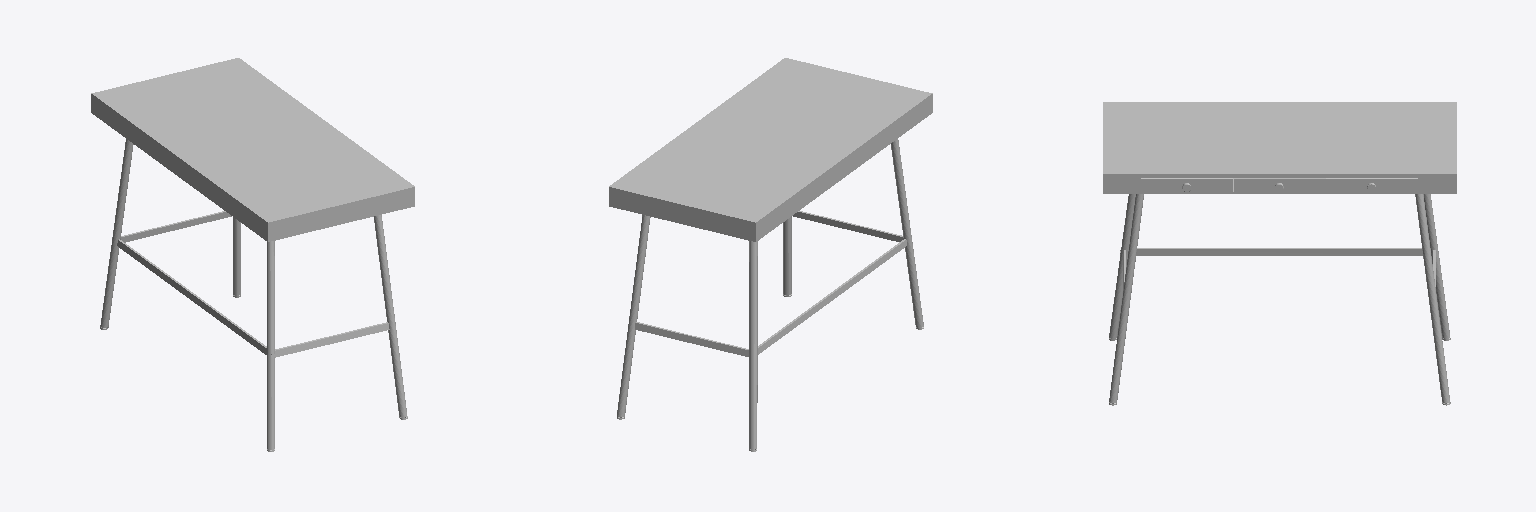
File: desk.obj
3 views of the same model, side by side, from view 1: azimuth 30°, elevation 25°; view 2: azimuth 150°, elevation 25°; view 3: azimuth 270°, elevation 25° (orthographic).
Visible parts, largest first — view 1: Cube, Cylinder.003; view 2: Cube, Cylinder.003; view 3: Cube, Cylinder.003, Cube.013, Cube.017, Cube.001.
Boxes of the visible parts, box(x1,y1,x2,y2) form: Cube: box(91, 58, 414, 241); Cylinder.003: box(100, 139, 407, 451); Cube: box(609, 58, 932, 241); Cylinder.003: box(617, 139, 923, 451); Cube: box(1103, 102, 1456, 193); Cylinder.003: box(1109, 194, 1450, 405); Cube.013: box(1234, 178, 1325, 191); Cube.017: box(1326, 178, 1417, 191); Cube.001: box(1141, 178, 1232, 191).
Size of the model in its own units: 0.5182 by 0.7559 by 1.04.